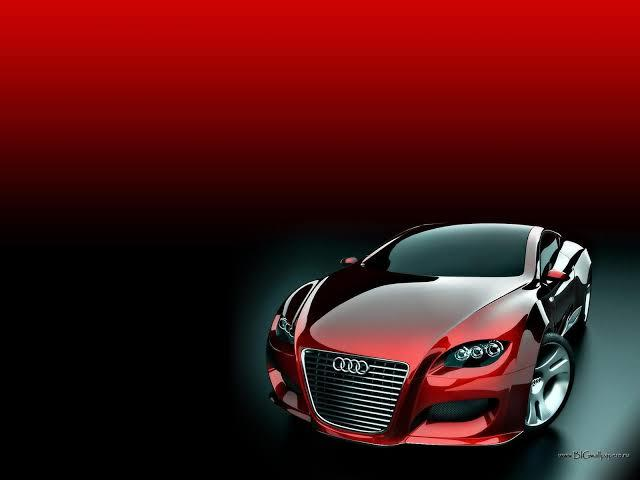audi: (270, 200, 603, 448)
